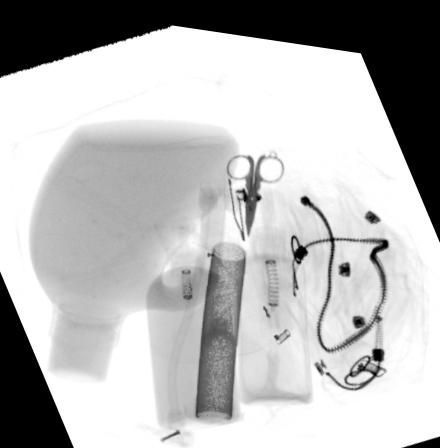Scissors: (225, 146, 287, 230)
